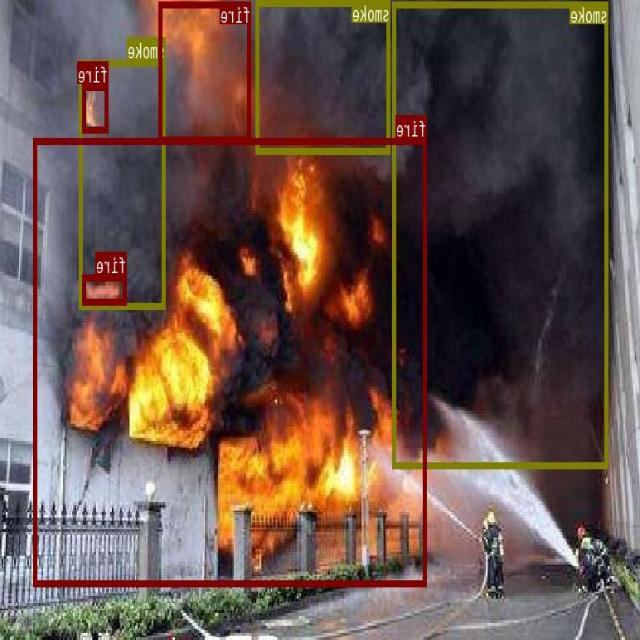fire: (34, 136, 427, 584), (159, 0, 252, 141), (83, 273, 128, 304), (83, 84, 109, 131)
smoke: (393, 0, 610, 468), (80, 59, 166, 307), (257, 0, 391, 152)
